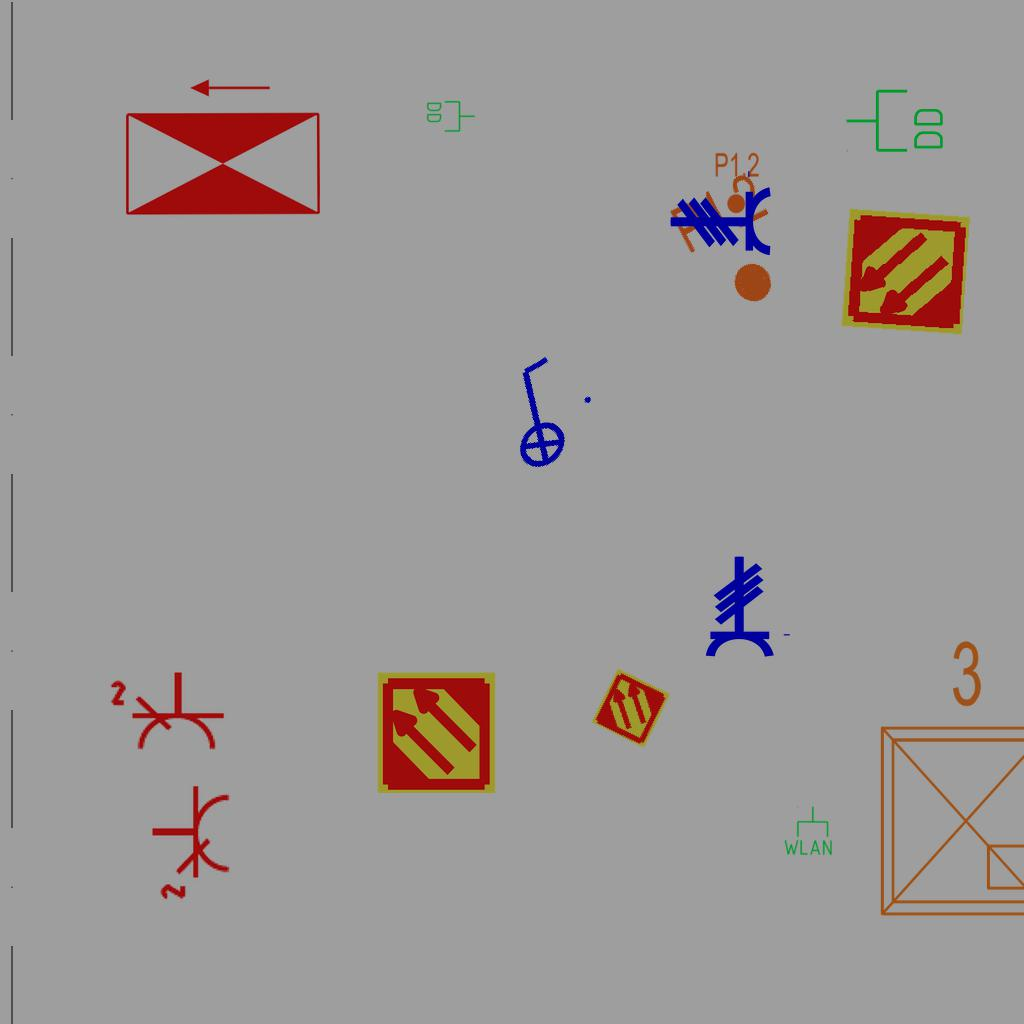ASR_Ansaugrauchmelder: (838, 204, 973, 339), (374, 670, 499, 795), (589, 666, 673, 750)
Ausschalter_beleuchtet: (462, 340, 610, 488)
CEE_Drehstrom_Steckdose_16_32_A: (703, 555, 793, 659), (669, 168, 773, 258)
Datenanschluss_zweifach: (844, 87, 947, 156), (425, 99, 476, 133)
Downlight_LED_Einbauleuchten_Flur: (665, 166, 806, 324), (714, 151, 760, 215)
Einbaudownlights_LED_Konferenzraeume: (858, 630, 1024, 930)
Fluchtwegpiktogramm: (119, 74, 327, 221)
Schukosteckdose_mehrfach: (146, 781, 234, 902), (108, 666, 229, 754)
WLAN: (782, 805, 834, 857)
